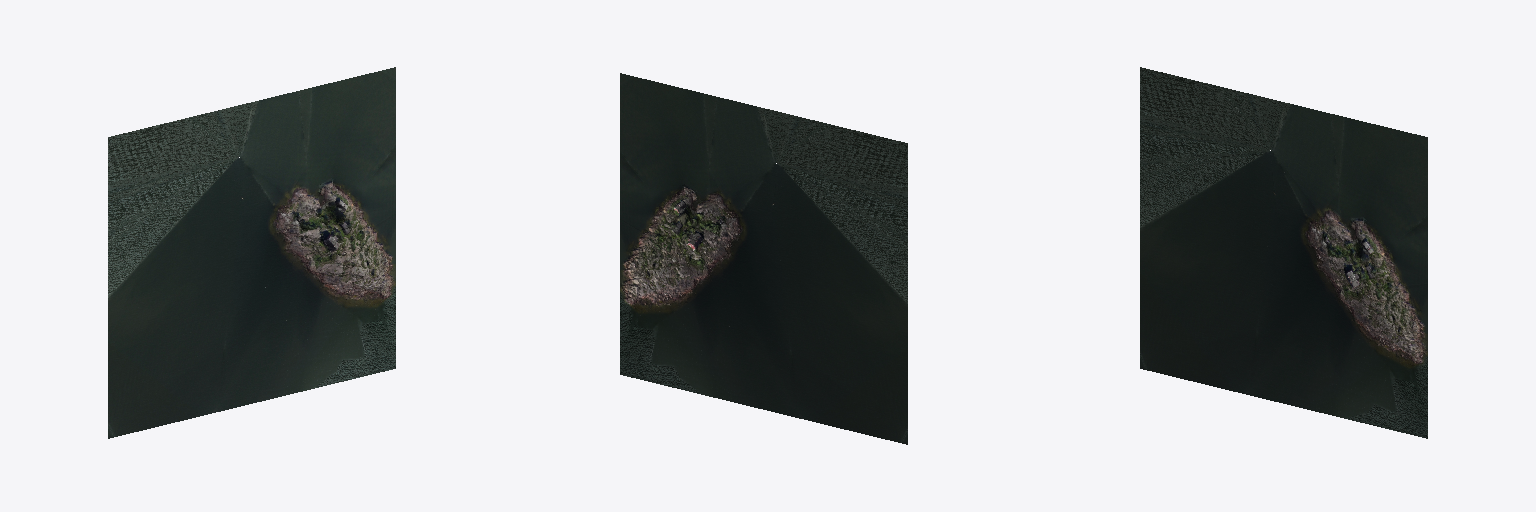
3 renders of one model, left to right at view 1: azimuth 30°, elevation 25°; view 2: azimuth 150°, elevation 25°; view 3: azimuth 330°, elevation 25°, orthographic.
Size of the model in its own units: 252 by 252 by 12.64.
Materials: 2 (1 with a texture image).